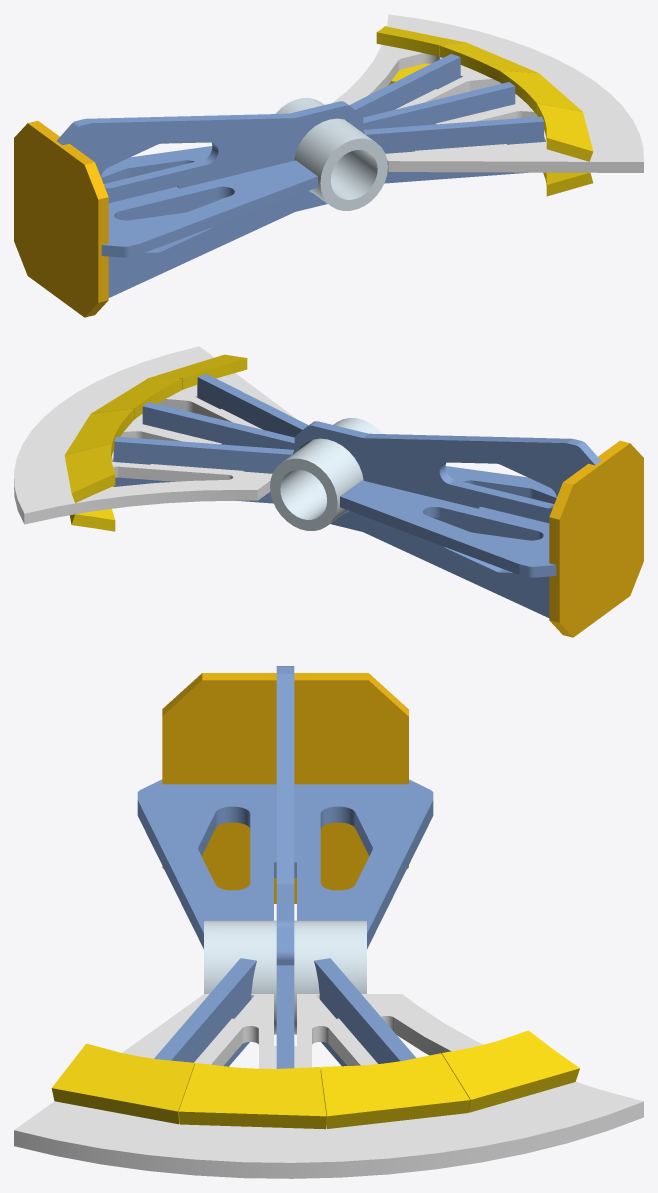
The model's file is Stormbreaker_internal.gltf.
3 renders of one model, top to bottom at view 1: azimuth 30°, elevation 25°; view 2: azimuth 150°, elevation 25°; view 3: azimuth 270°, elevation 25°, orthographic. The views are drawn at different scales.
Visible parts, largest first — view 1: Part 4, Part 1, Part 5, Part 3, Part 2, Part 10, Part 11, Part 6, Part 8, Part 9, Part 7, Part 12 (+1 smaller); view 2: Part 4, Part 1, Part 5, Part 3, Part 2, Part 11, Part 10, Part 7, Part 9, Part 8, Part 6, Part 21 (+1 smaller); view 3: Part 1, Part 5, Part 3, Part 2, Part 8, Part 9, Part 4, Part 6, Part 7, Part 11, Part 10.
Boxes of the visible parts, box(x1,y1,x2,y2) form: Part 4: box(57, 82, 515, 297); Part 1: box(332, 14, 643, 172); Part 5: box(14, 120, 108, 317); Part 3: box(101, 146, 317, 257); Part 2: box(276, 98, 387, 210); Part 10: box(363, 116, 543, 153); Part 11: box(346, 54, 460, 125); Part 6: box(537, 103, 593, 161); Part 8: box(500, 71, 582, 114); Part 9: box(439, 42, 537, 81); Part 7: box(376, 26, 465, 56); Part 12: box(384, 172, 527, 183); Part 4: box(142, 402, 600, 617); Part 1: box(14, 346, 296, 524); Part 5: box(549, 440, 643, 637); Part 3: box(340, 466, 556, 577); Part 2: box(270, 418, 381, 530); Part 11: box(113, 436, 293, 473); Part 10: box(197, 374, 311, 445); Part 7: box(64, 443, 115, 503); Part 9: box(65, 408, 133, 455); Part 8: box(91, 378, 182, 419); Part 6: box(148, 354, 247, 389); Part 21: box(70, 509, 115, 531); Part 1: box(14, 994, 643, 1178); Part 5: box(162, 673, 408, 903); Part 3: box(137, 779, 433, 948); Part 2: box(204, 920, 366, 1034); Part 8: box(178, 1063, 326, 1129); Part 9: box(320, 1053, 470, 1128); Part 4: box(276, 666, 294, 1068); Part 6: box(51, 1043, 194, 1124); Part 7: box(442, 1030, 579, 1112); Part 11: box(314, 958, 415, 1063); Part 10: box(154, 958, 256, 1062).
Size of the model in its own units: 0.3302 by 0.1069 by 0.2277.
